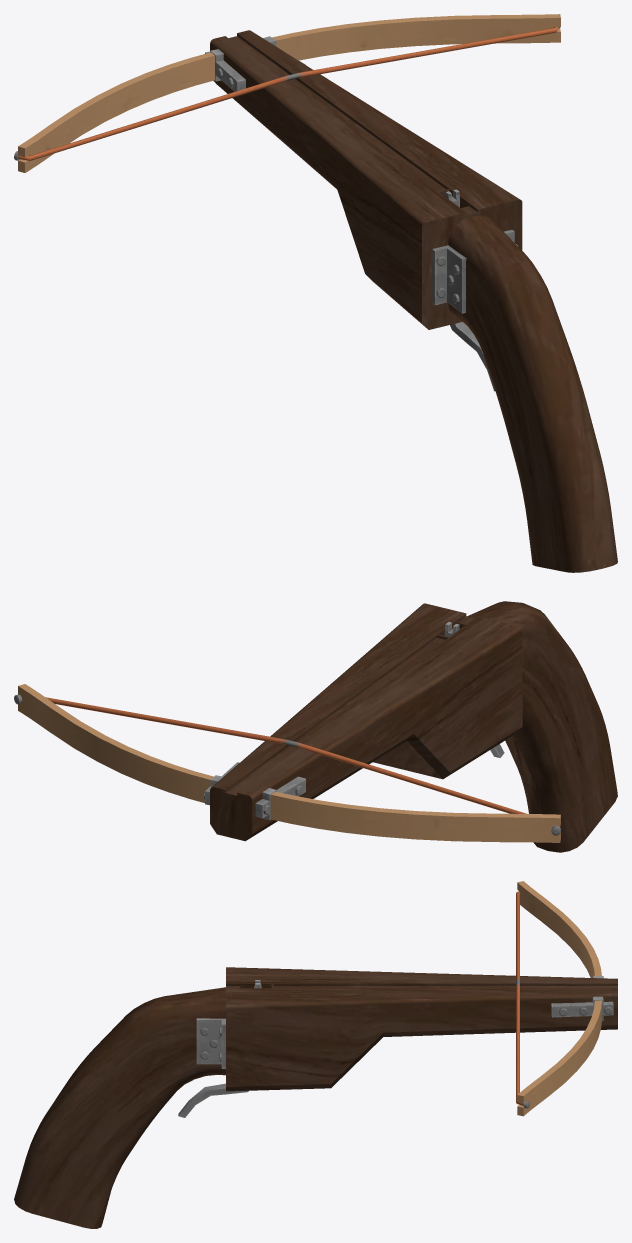
Rendered from hand_xbow.glb.
3 views of the same model, one above another, from view 1: azimuth 30°, elevation 25°; view 2: azimuth 150°, elevation 25°; view 3: azimuth 270°, elevation 25° (orthographic). The views are drawn at different scales.
Visible parts, largest first — view 1: Object_290; view 2: Object_290; view 3: Object_290.
Boxes of the visible parts, x1,y1,x2,y2 form: Object_290: (14, 14, 617, 572); Object_290: (14, 601, 617, 852); Object_290: (14, 881, 617, 1228).
Bounding box in the file's own units: 0.3648 × 0.1891 × 0.4291.
Materials: 1 (1 with a texture image).
